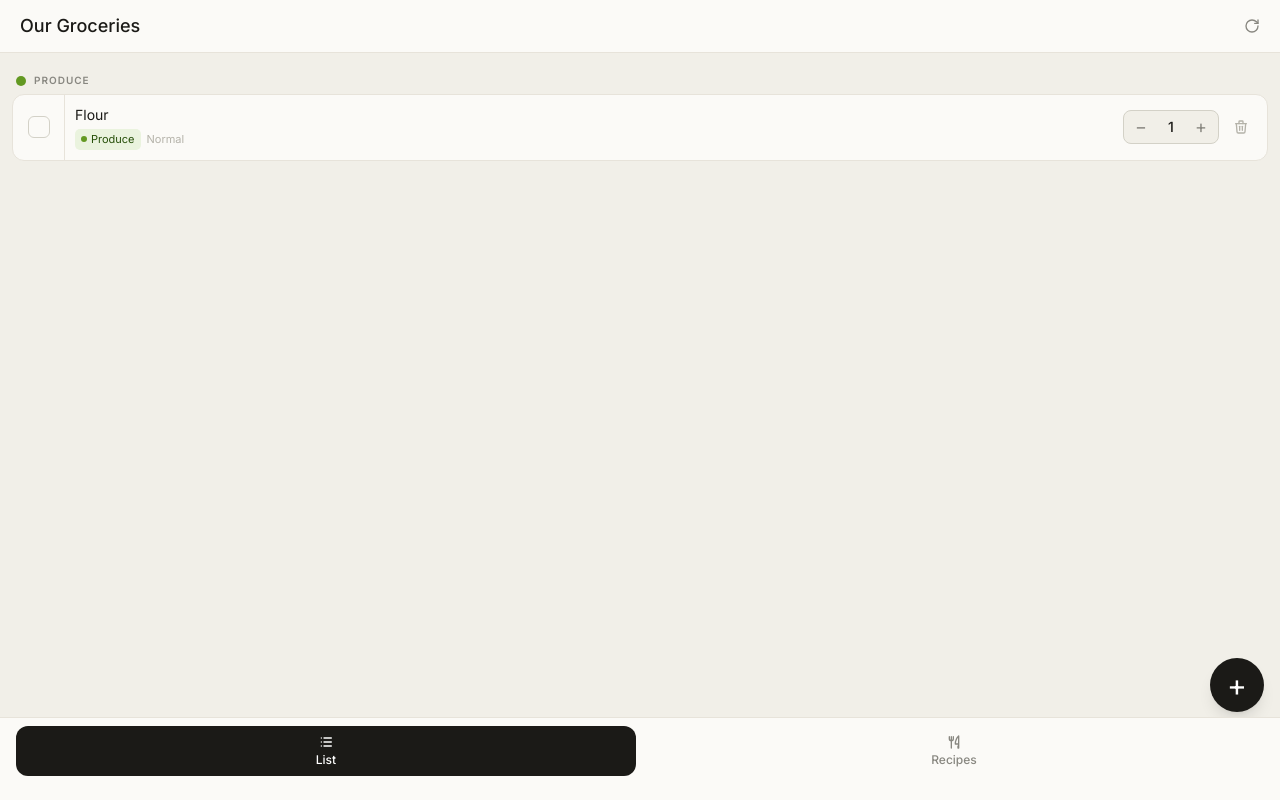
page.tsx › checking a recipe-sourced item deletes it instead of moving to Bought
Click the button named "Mark as bought" at coordinates (39, 127), box [13, 95, 65, 160]
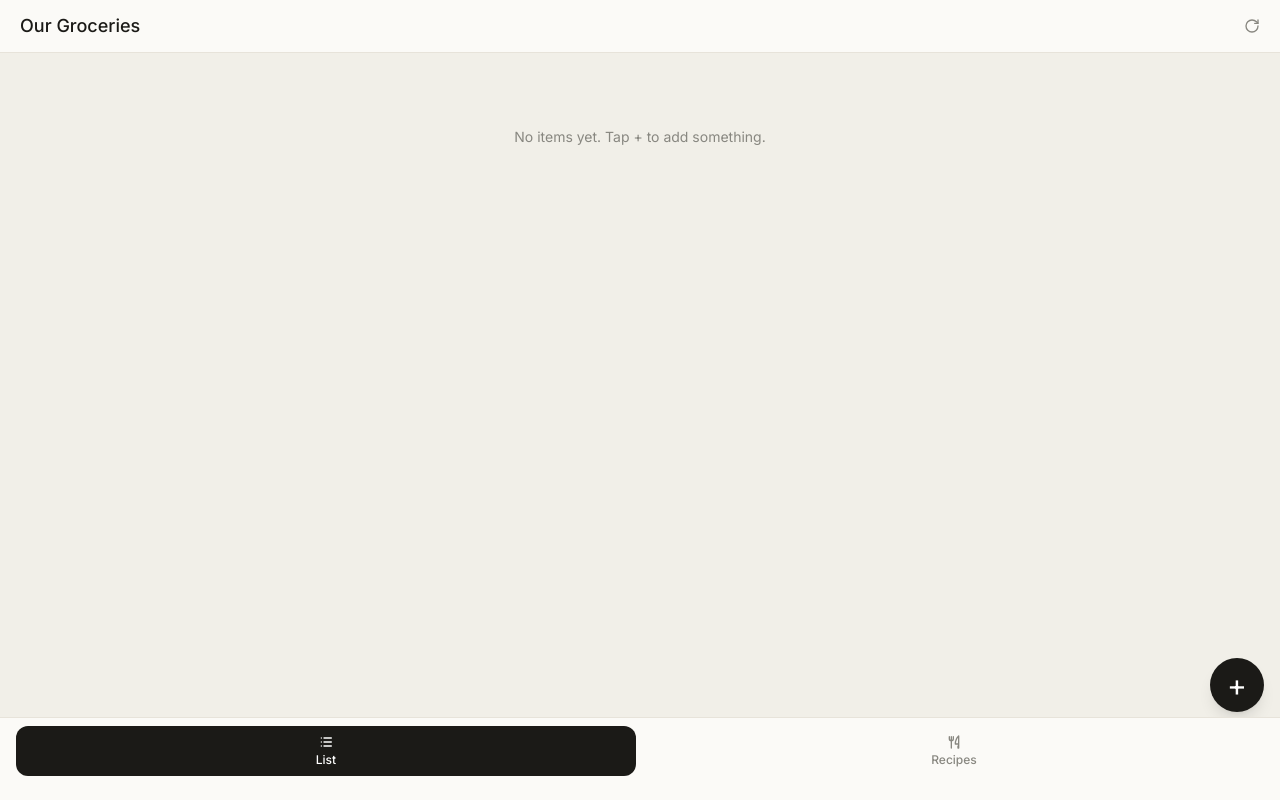
Check: the button "Flour" is gone
